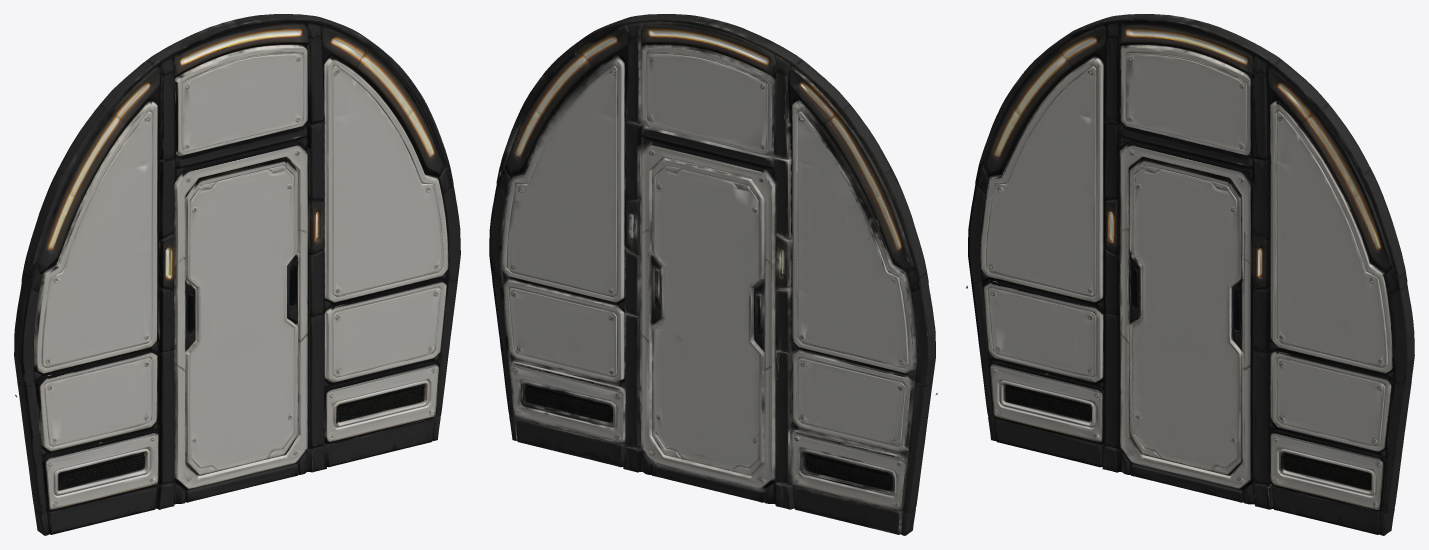
Rendered from aft-bulkhead.glb.
The picture shows the model from 3 angles, left to right: view 1: azimuth 30°, elevation 25°; view 2: azimuth 150°, elevation 25°; view 3: azimuth 330°, elevation 25°; orthographic projection.
Visible parts, largest first — view 1: node_0; view 2: node_0; view 3: node_0.
Part boxes in pixels (left/top/right/bottom): node_0: left=14, top=14, right=460, bottom=535; node_0: left=489, top=14, right=937, bottom=535; node_0: left=966, top=14, right=1414, bottom=535.
Bounding box in the file's own units: 0.8995 × 0.8976 × 0.0421.
Materials: 1 (1 with a texture image).
